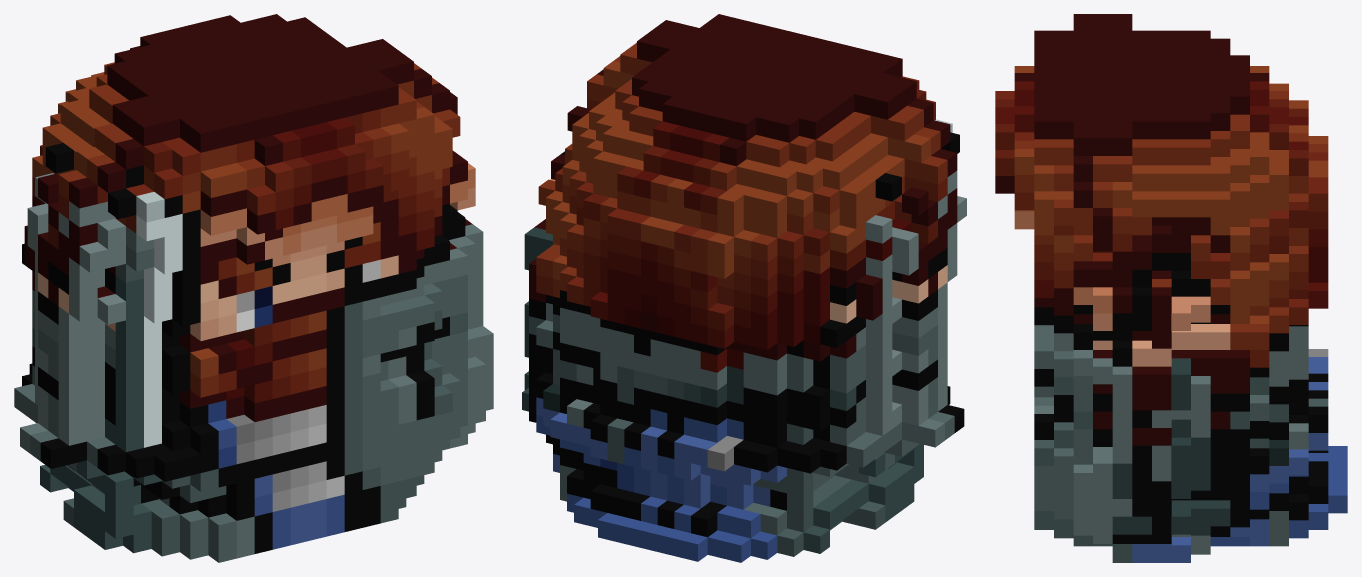
Rendered from Icon_029_02.obj.
3 views of the same model, side by side, from view 1: azimuth 30°, elevation 25°; view 2: azimuth 150°, elevation 25°; view 3: azimuth 270°, elevation 25° (orthographic). The views are drawn at different scales.
Size of the model in its own units: 2.4 by 2.3 by 1.8.
Materials: 1 (1 with a texture image).
